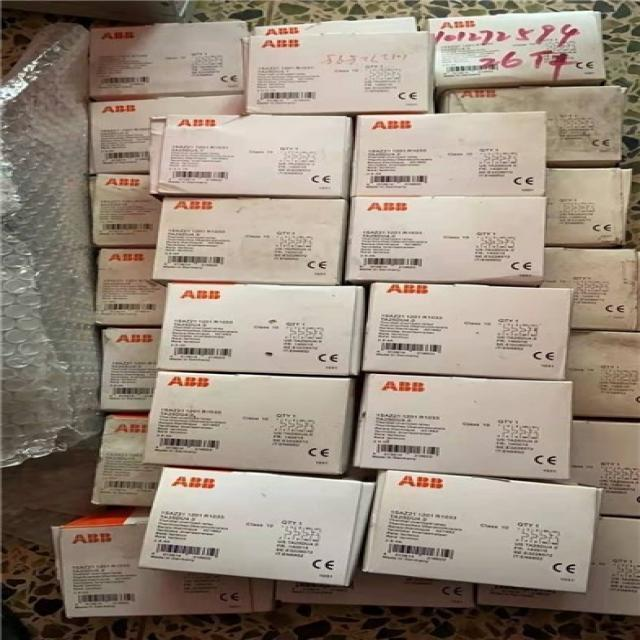box: (136, 466, 380, 585), (366, 470, 600, 593), (53, 506, 274, 618), (142, 370, 361, 477), (351, 373, 569, 478), (360, 285, 576, 380), (157, 284, 366, 377), (153, 198, 352, 290), (150, 114, 351, 203), (341, 198, 546, 285), (248, 17, 431, 114), (348, 111, 547, 197), (475, 516, 638, 613), (439, 85, 626, 167), (423, 11, 606, 87), (85, 94, 246, 176), (84, 20, 251, 97), (540, 244, 638, 330), (562, 328, 638, 420), (547, 167, 633, 248), (567, 418, 638, 516), (273, 572, 476, 606), (92, 415, 164, 506), (88, 175, 167, 248), (96, 249, 166, 327), (101, 328, 160, 410)
